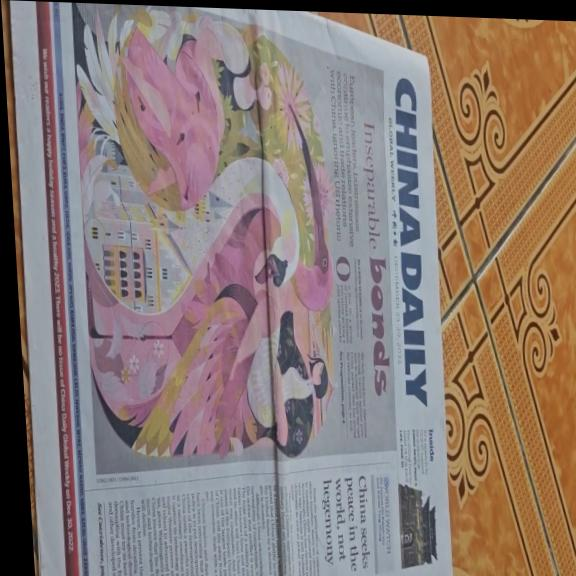Kertas: (10, 7, 458, 576)
